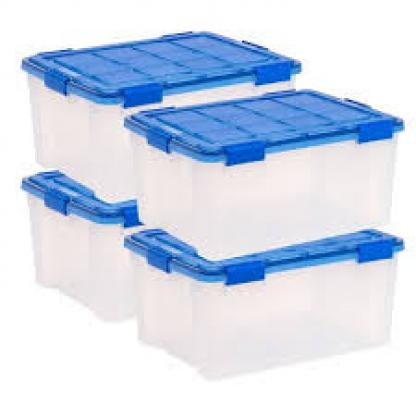plastic_box: (111, 70, 412, 264), (126, 214, 409, 382)
